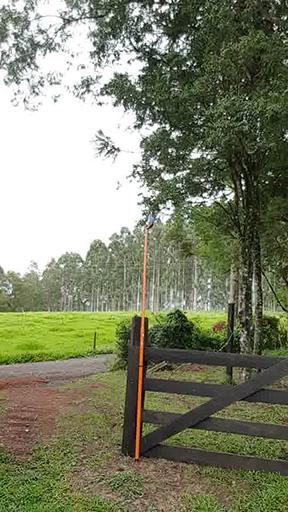Vara_Manobra: (134, 232, 150, 462)
